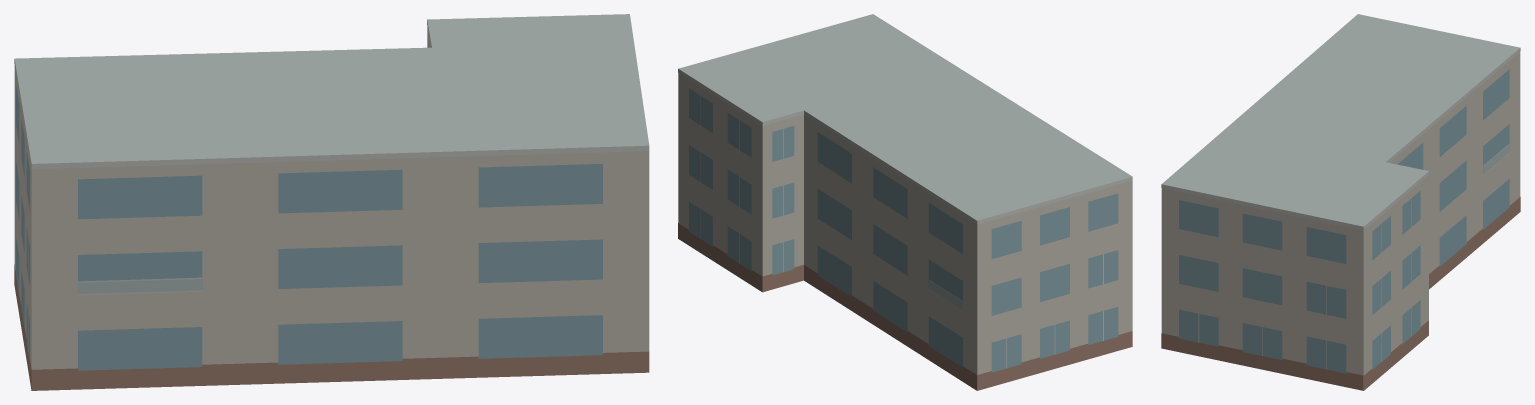
The model's file is survey-upis-32533894.glb.
3 views of the same model, side by side, from view 1: azimuth 30°, elevation 25°; view 2: azimuth 150°, elevation 25°; view 3: azimuth 270°, elevation 25° (orthographic). The views are drawn at different scales.
Visible parts, largest first — view 1: survey-upis-32533894.tmp; view 2: survey-upis-32533894.tmp; view 3: survey-upis-32533894.tmp.
Boxes of the visible parts, x1,y1,x2,y2 form: survey-upis-32533894.tmp: [14, 14, 649, 390]; survey-upis-32533894.tmp: [678, 14, 1132, 390]; survey-upis-32533894.tmp: [1161, 14, 1520, 390].
Size of the model in its own units: 29.17 by 10.5 by 20.81.
